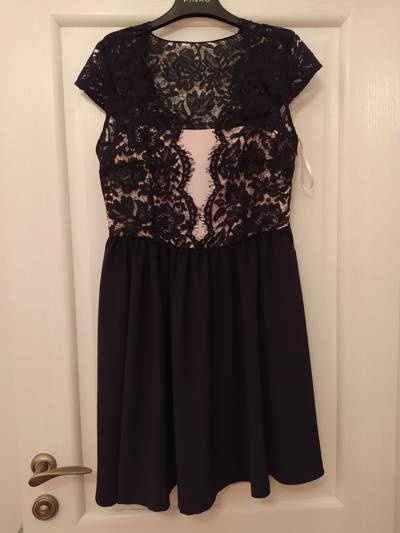Dress: (45, 18, 344, 492)
